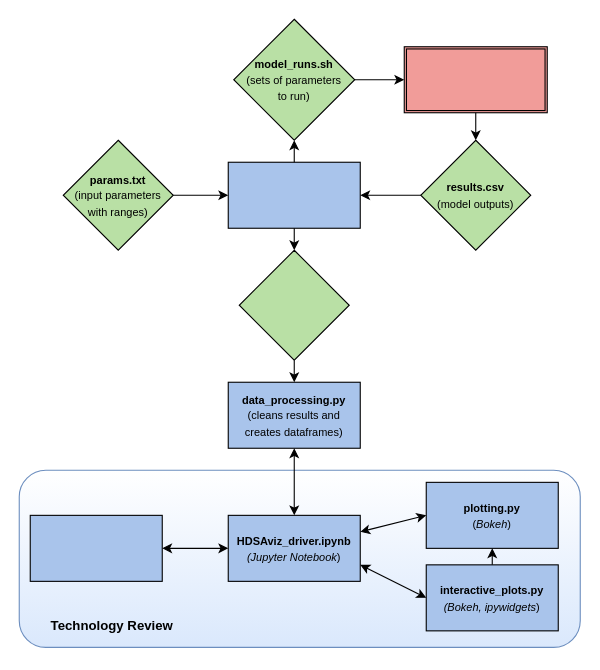
Image size: 600x670. Some labels were removed from this diagram. The centre of each missing label's shape, as x and y in pixels:
analysis*.csv (sensitivity analysis results): the point at 293,304
ligpyr.py (run any model here with the generated parameters): the point at 475,79
network_tools.py ( graph-tool ): the point at 95,547
sensitivity_tools.py ( SALib wrapper): the point at 293,194
